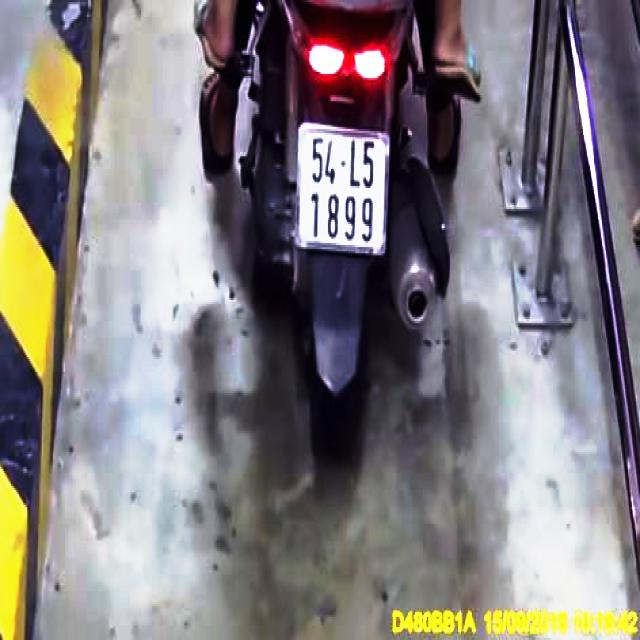license_plate: (301, 128, 392, 254)
